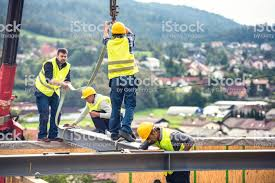helmet: (137, 122, 155, 143), (112, 20, 126, 35), (80, 87, 95, 100)
vest: (161, 128, 188, 176), (106, 40, 139, 77), (38, 61, 71, 97), (87, 98, 109, 116)
